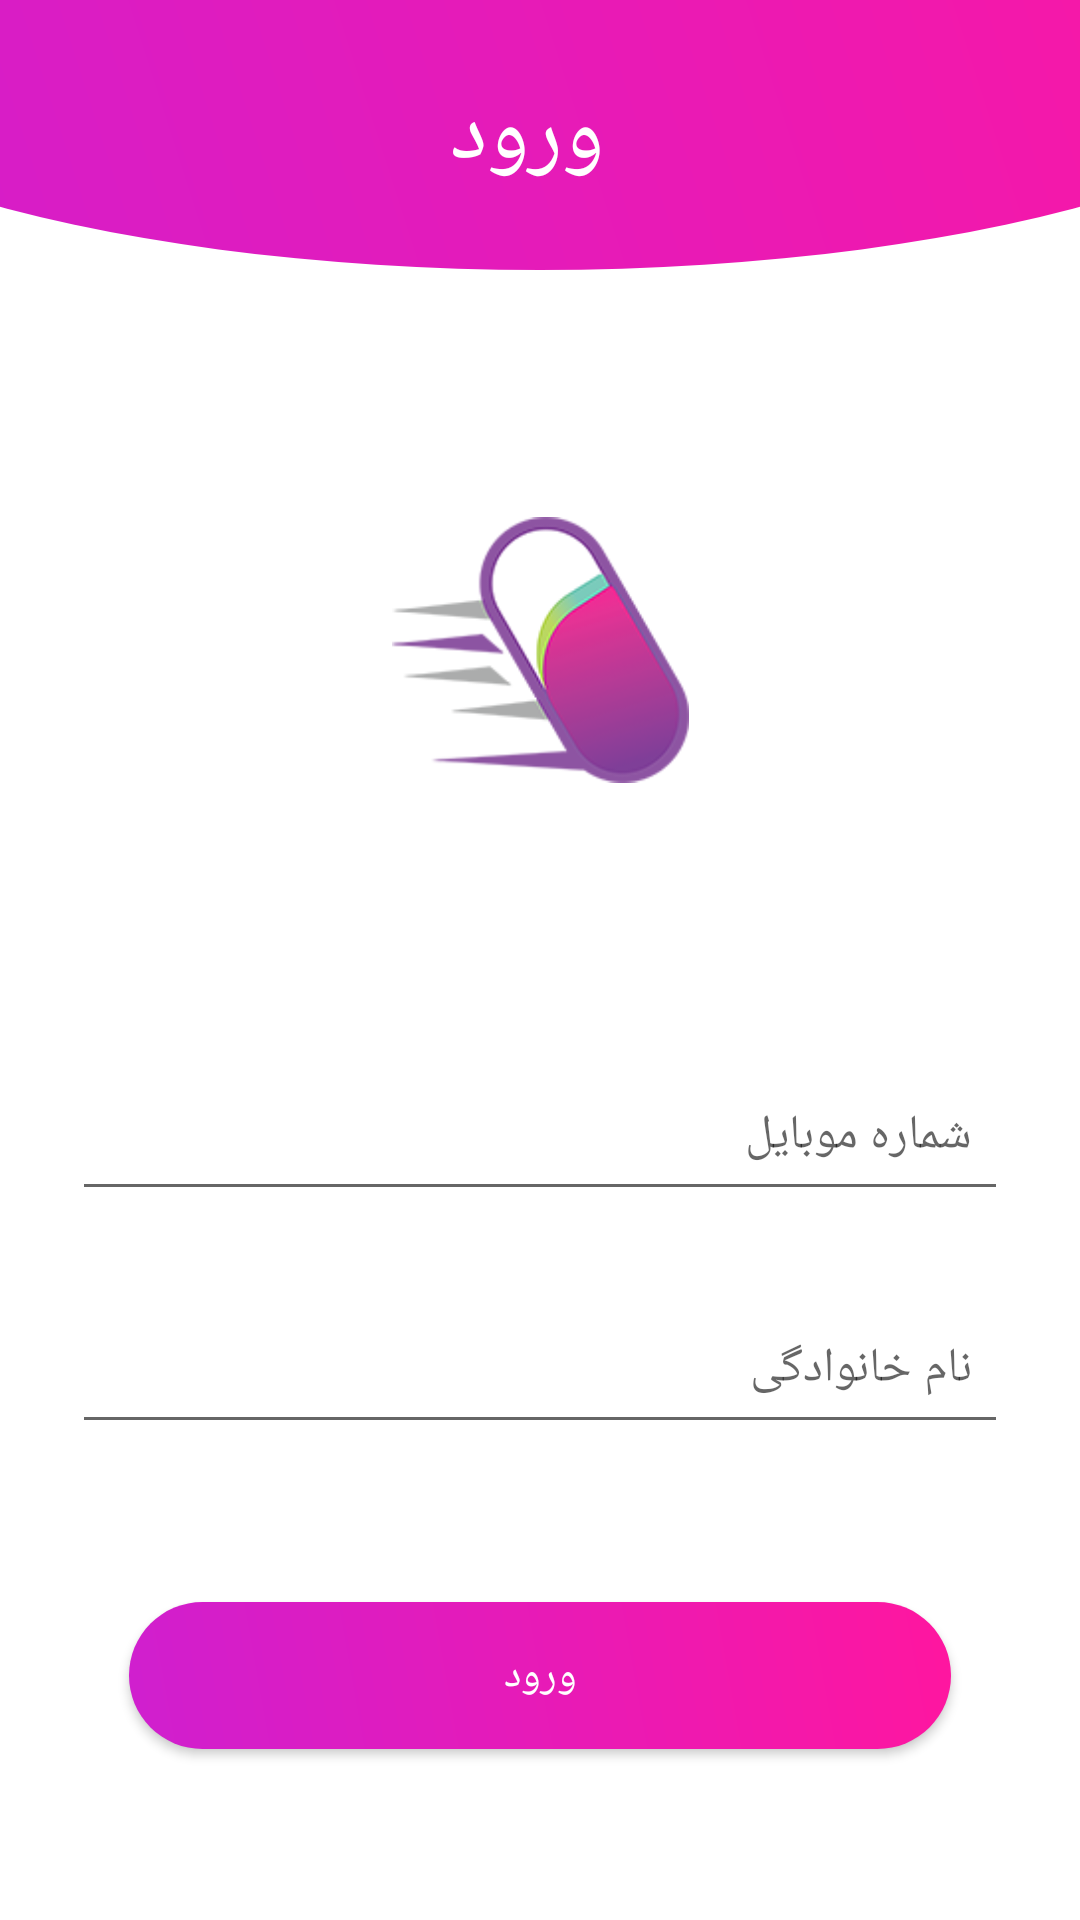

Named icons in this screenshot (1080 × 1920) and their bounding boxes, (left=x1, top=y1, right=x2, bottom=y2):
pill: (left=392, top=517, right=689, bottom=783)
